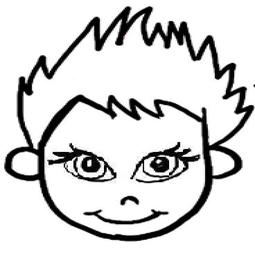ear: (2, 140, 46, 186), (205, 146, 252, 182)
eye: (46, 136, 119, 186), (126, 143, 204, 187)
mouth: (83, 203, 169, 229)
nose: (117, 194, 148, 208)
